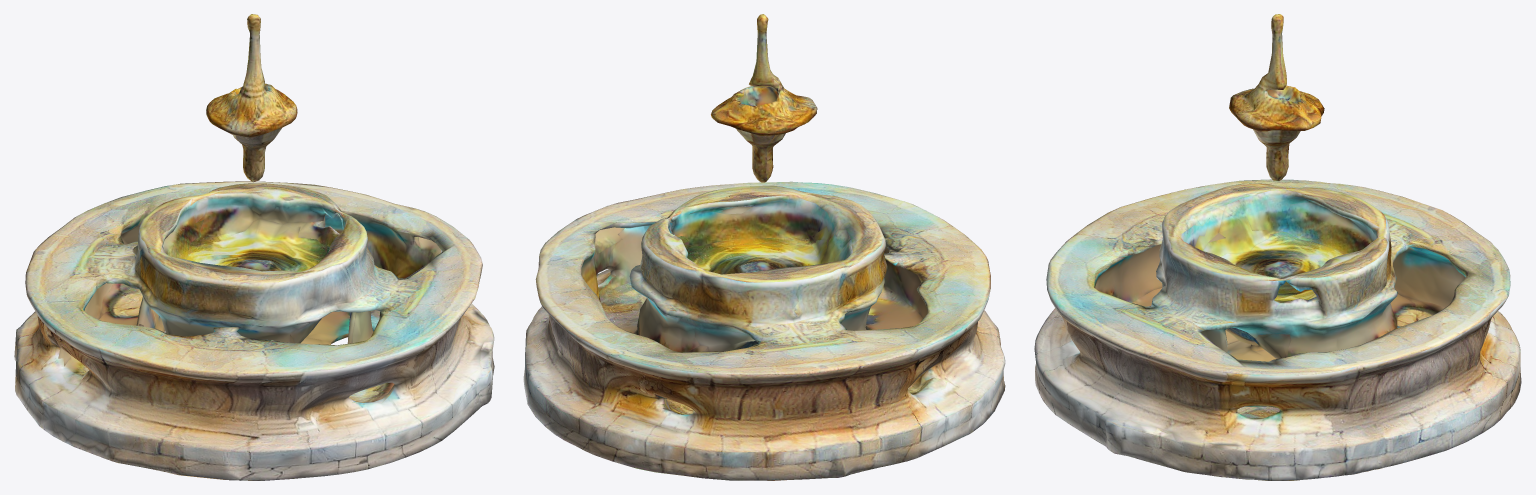
The model's file is fountain.glb.
3 views of the same model, side by side, from view 1: azimuth 30°, elevation 25°; view 2: azimuth 150°, elevation 25°; view 3: azimuth 270°, elevation 25° (orthographic).
Size of the model in its own units: 1 by 0.8234 by 0.9984.
Materials: 1 (1 with a texture image).
